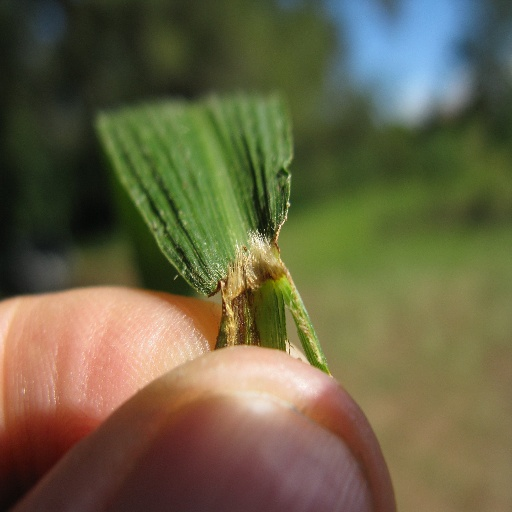hand: (1, 276, 400, 511)
